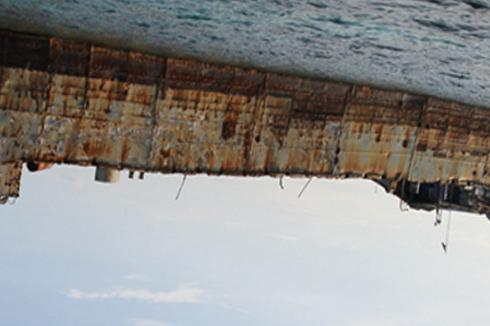rust: (281, 76, 426, 133), (3, 34, 129, 84), (170, 131, 287, 175), (24, 132, 148, 170), (154, 59, 258, 100), (439, 101, 490, 143)
